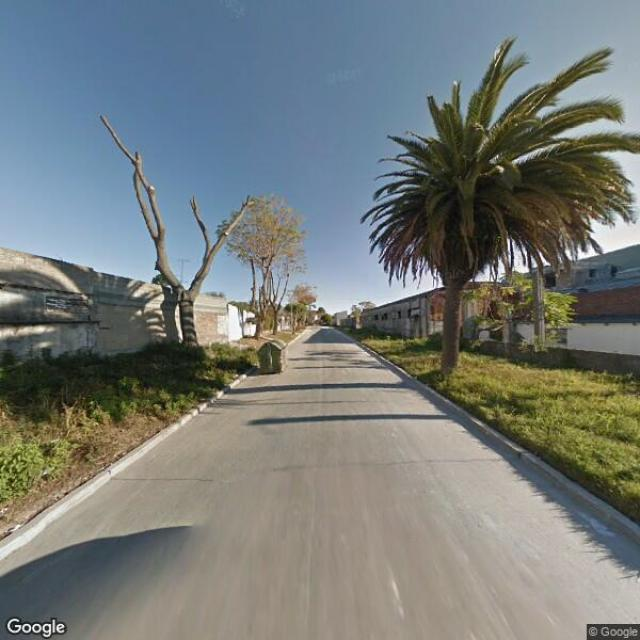garbage container: (253, 332, 295, 378)
